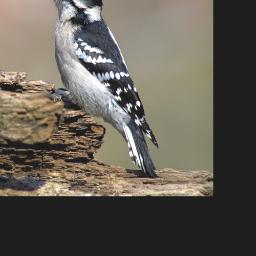Woodpecker: (35, 0, 159, 181)
